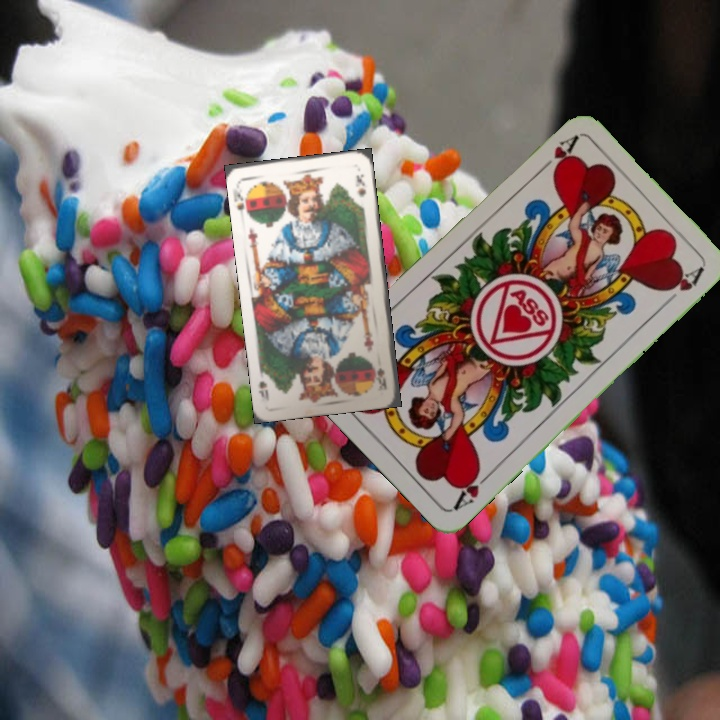HA: (449, 464, 496, 513), (532, 132, 580, 178)
SK: (231, 178, 252, 219), (373, 364, 389, 392)
